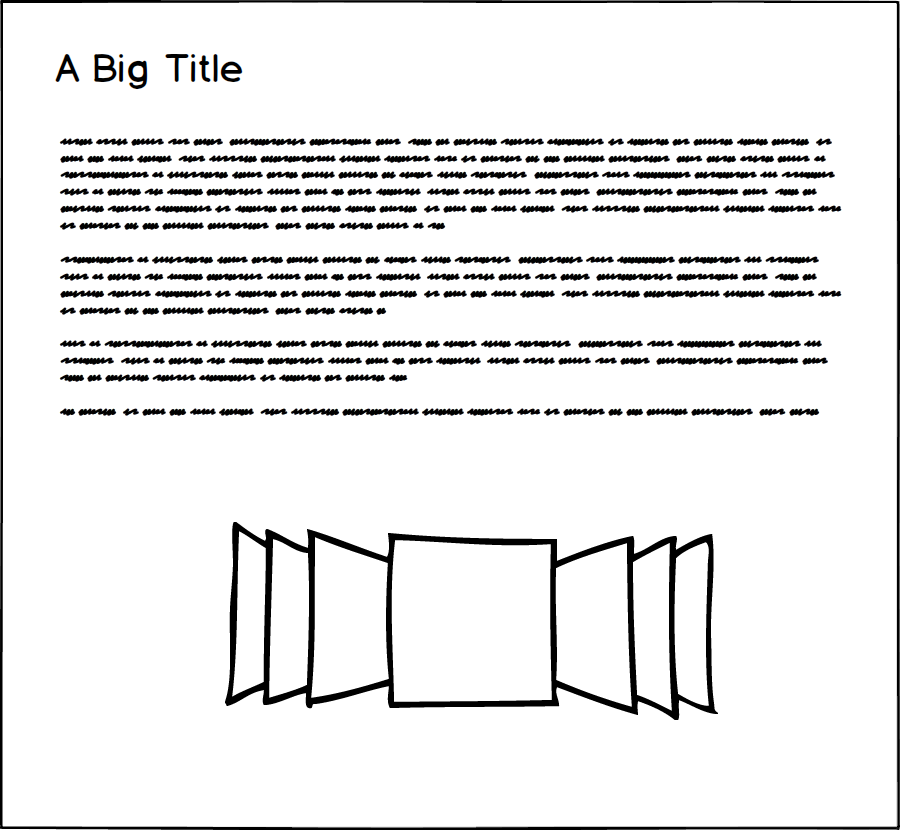h1: (47, 45, 246, 93)
p: (56, 128, 846, 428)
slideshow: (217, 510, 739, 731)
